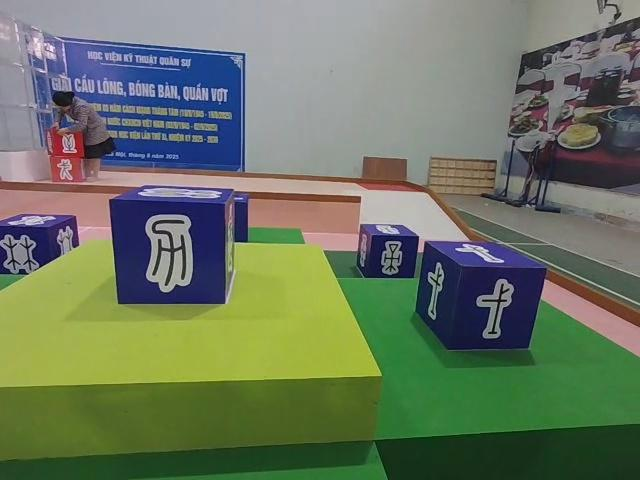R2 Fake Blue: (108, 188, 234, 310)
R2 Real Blue: (417, 240, 546, 353), (0, 216, 76, 279), (353, 225, 418, 282)
